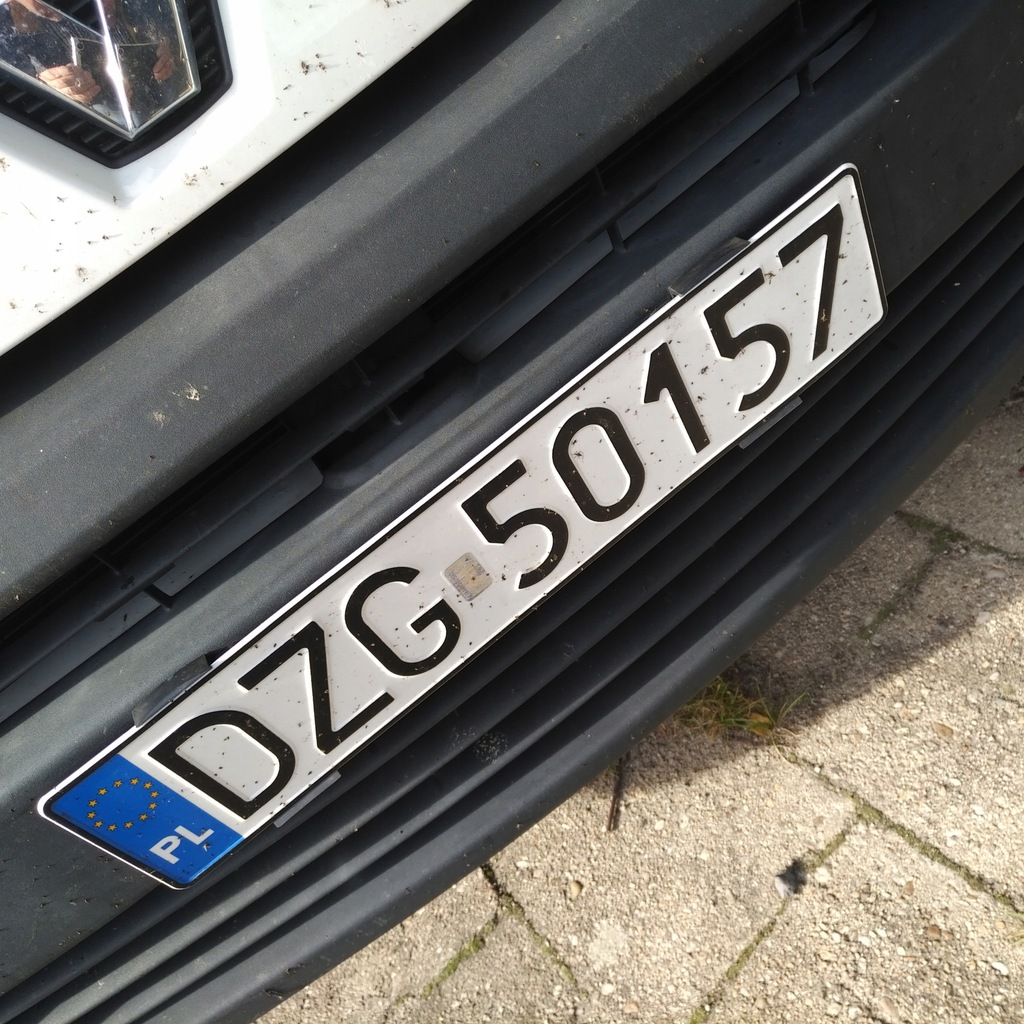number_plate: (43, 163, 890, 954)
